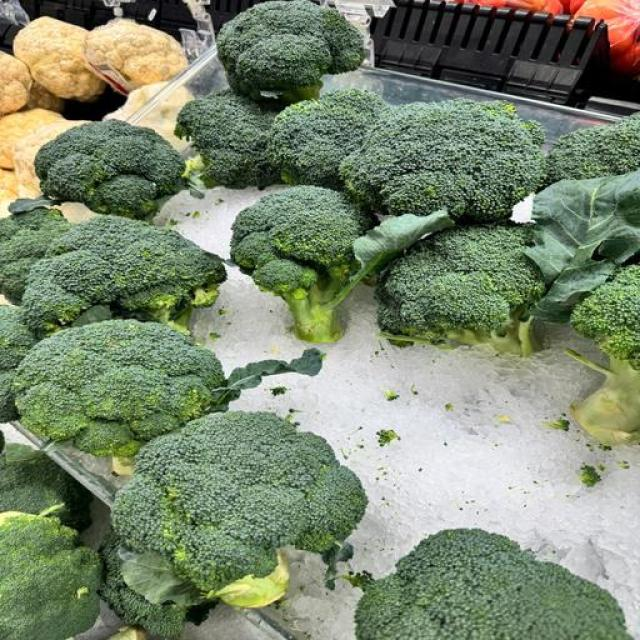organic: (113, 412, 367, 599), (13, 320, 322, 472), (234, 168, 507, 338), (528, 117, 639, 444), (232, 185, 452, 342), (355, 529, 631, 639), (14, 320, 224, 457), (340, 99, 544, 222), (23, 217, 226, 334), (377, 224, 544, 356), (232, 187, 374, 342), (527, 172, 639, 323), (218, 0, 363, 102), (35, 120, 184, 218), (0, 512, 99, 639), (119, 548, 288, 622), (570, 265, 639, 444), (269, 89, 387, 189), (175, 90, 278, 188), (99, 532, 187, 639), (0, 433, 92, 531), (215, 348, 323, 409), (569, 352, 639, 446), (354, 210, 453, 276), (0, 208, 68, 303), (547, 114, 639, 183), (119, 547, 201, 606), (208, 552, 289, 608), (0, 305, 36, 422), (287, 295, 343, 343), (342, 570, 373, 589), (580, 464, 601, 487), (109, 628, 147, 639), (377, 429, 399, 446), (542, 418, 569, 431), (285, 408, 301, 427), (384, 390, 399, 401), (270, 387, 288, 396), (0, 430, 6, 453), (497, 414, 512, 423), (208, 332, 221, 341), (598, 443, 611, 451), (618, 460, 629, 469), (218, 308, 229, 316), (187, 212, 201, 218), (168, 219, 178, 227), (444, 403, 454, 411), (410, 384, 418, 394), (214, 198, 224, 206)
